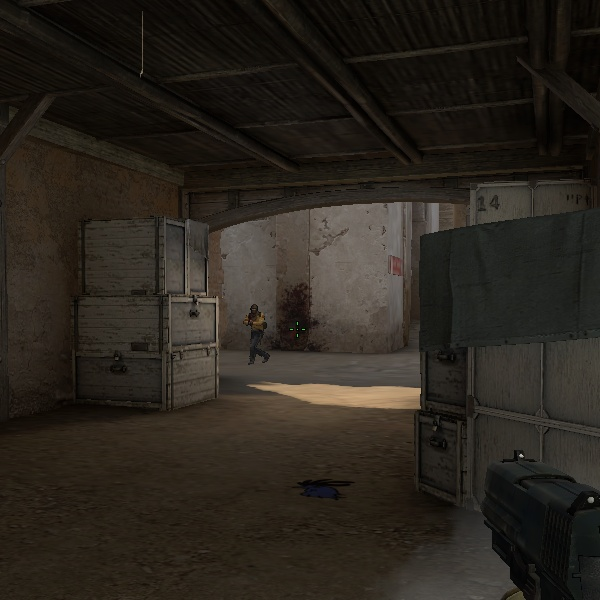t_body: (243, 304, 271, 363)
t_head: (250, 304, 258, 316)
